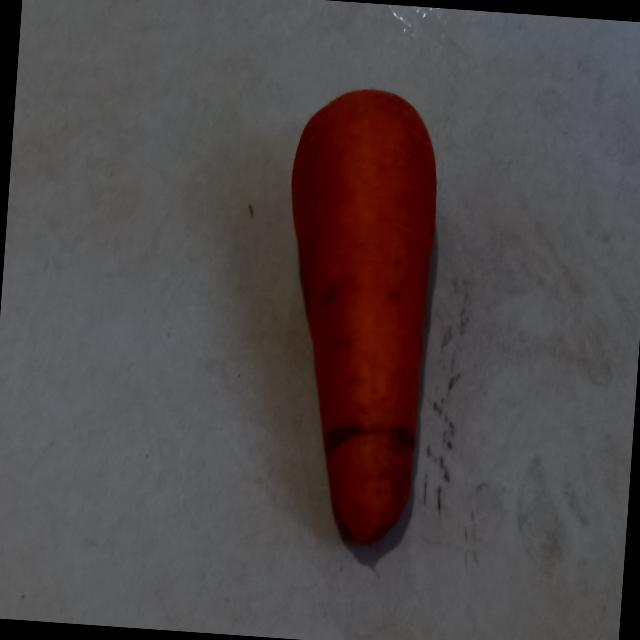carrot: (291, 89, 436, 544)
